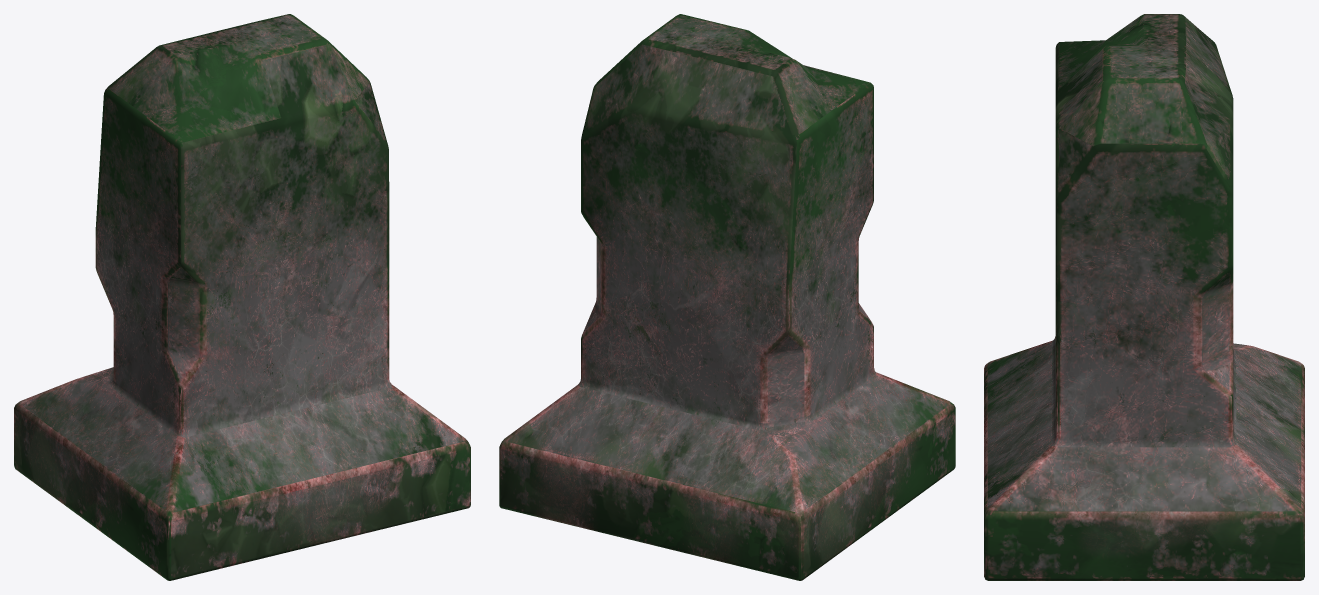
The model's file is grave1.fbx.
3 renders of one model, left to right at view 1: azimuth 30°, elevation 25°; view 2: azimuth 150°, elevation 25°; view 3: azimuth 270°, elevation 25°, orthographic. The views are drawn at different scales.
Parts seen in each view (by area): view 1: grave1; view 2: grave1; view 3: grave1.
Part boxes in pixels (x1,y1,x2,y2): grave1: [14, 14, 470, 580]; grave1: [499, 14, 955, 580]; grave1: [984, 14, 1304, 580].
Size of the model in its own units: 446 by 627 by 396.
1 material, 1 textured.
